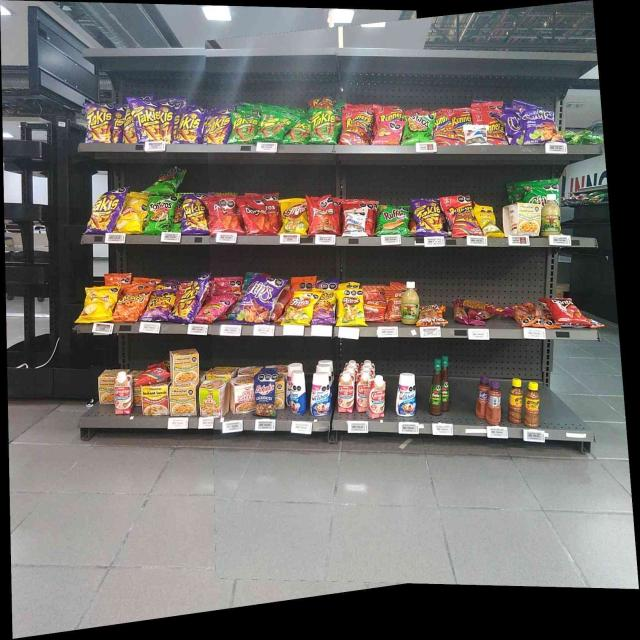bitzEnchilado90: (366, 297, 383, 317), (390, 292, 400, 321)
bitzEnchilado95: (512, 305, 550, 328)
bitzHabanero: (470, 300, 500, 326), (452, 298, 468, 324)
botaneraChilito: (526, 380, 539, 429), (510, 379, 522, 424)
cheetosFlaminHot: (314, 291, 334, 319), (149, 292, 170, 316)
cheetosOriginal: (118, 291, 142, 319)
chipsFuego: (241, 282, 274, 319), (524, 111, 554, 140), (507, 114, 522, 144)
churrumais: (377, 123, 402, 143), (204, 302, 224, 318)
delPrimoSalsa: (542, 194, 561, 236), (402, 282, 418, 324)
doritosNacho: (552, 298, 579, 324), (211, 202, 236, 230), (244, 201, 268, 228)
fritosLimon: (288, 294, 310, 324), (284, 205, 308, 232), (342, 294, 363, 323)
leoCacahuates: (345, 212, 364, 234), (466, 128, 487, 145)
leoMix: (421, 304, 442, 325)
maruchanPollo: (512, 205, 540, 234), (99, 376, 115, 404)
maruchanRes: (172, 353, 200, 383), (141, 387, 169, 416)
nestleCarnation: (367, 377, 385, 419), (338, 372, 355, 413), (117, 373, 132, 415), (356, 371, 366, 414)
nestleLechera: (311, 372, 331, 414), (398, 374, 416, 417)
rancheritos: (313, 200, 332, 230)
rufflesQueso: (382, 209, 407, 232)
runners: (448, 198, 474, 234), (344, 112, 372, 142), (433, 118, 454, 141), (143, 365, 168, 383), (488, 116, 503, 144), (380, 108, 403, 120), (312, 96, 334, 108), (455, 112, 472, 124)
sabritasOriginal: (83, 291, 111, 319), (120, 198, 142, 232)
salsaBufalo: (430, 358, 442, 416), (442, 355, 450, 412)
semillasCalabaza: (479, 210, 496, 236)
tajinDulce: (488, 384, 502, 424), (475, 376, 487, 419)
takisFuego: (90, 192, 118, 233), (134, 106, 160, 140), (88, 106, 111, 143), (181, 280, 202, 318), (416, 202, 440, 232), (183, 198, 205, 230), (178, 112, 200, 141), (205, 114, 228, 140), (112, 112, 125, 140), (161, 108, 173, 138)
takisOriginal: (312, 110, 333, 142), (232, 117, 256, 141), (262, 118, 284, 138), (290, 122, 310, 141)
tostitos: (148, 200, 172, 226), (410, 117, 432, 140)
